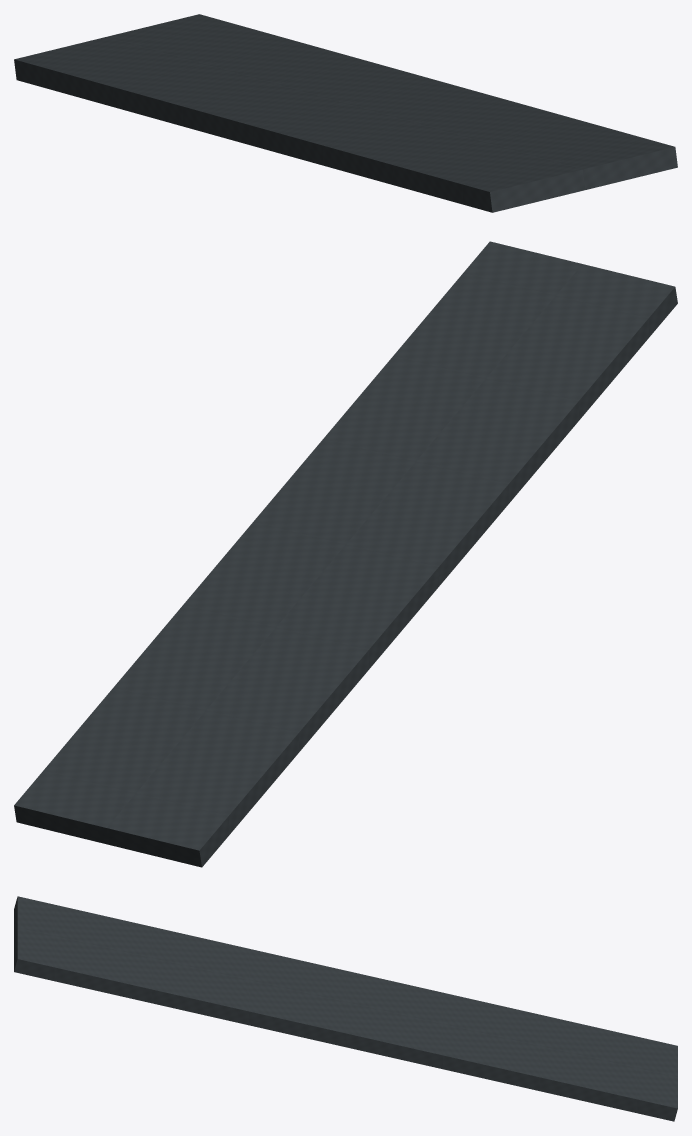
File: Rail_Slope_1x4_Collision.glb
3 views of the same model, one above another, from view 1: azimuth 30°, elevation 25°; view 2: azimuth 150°, elevation 25°; view 3: azimuth 270°, elevation 25° (orthographic). The views are drawn at different scales.
Parts seen in each view (by area): view 1: COL_TrackBed.001; view 2: COL_TrackBed.001; view 3: COL_TrackBed.001.
Part boxes in pixels (x1,y1,x2,y2): COL_TrackBed.001: [14, 14, 677, 212]; COL_TrackBed.001: [14, 241, 677, 867]; COL_TrackBed.001: [14, 896, 677, 1121].
Bounding box in the file's own units: 0.9 × 1.09 × 4.02.
Materials: 1 (1 with a texture image).
